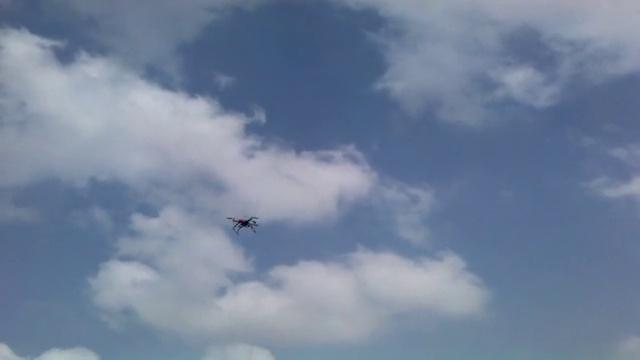drone: (224, 210, 261, 237)
